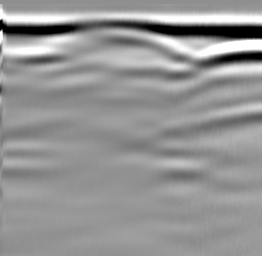pipe: (62, 19, 174, 47)
steel: (203, 41, 262, 67)
